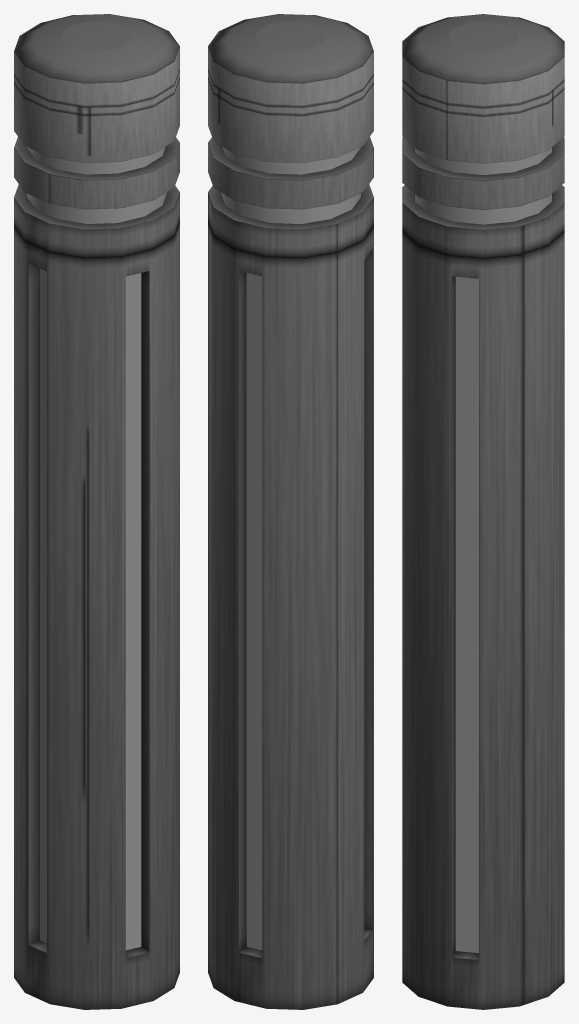
Rendered from ShortPillar.fbx.
3 renders of one model, left to right at view 1: azimuth 30°, elevation 25°; view 2: azimuth 150°, elevation 25°; view 3: azimuth 270°, elevation 25°, orthographic.
Visible parts, largest first — view 1: Short_Pillar, Short_Pillar_GM; view 2: Short_Pillar, Short_Pillar_GM; view 3: Short_Pillar, Short_Pillar_GM.
Boxes of the visible parts, x1,y1,x2,y2 form: Short_Pillar: (14,14,179,1009); Short_Pillar_GM: (27,147,166,950); Short_Pillar: (208,14,373,1009); Short_Pillar_GM: (221,147,360,950); Short_Pillar: (402,14,564,1009); Short_Pillar_GM: (415,148,551,953).
Size of the model in its own units: 0.2286 by 1.43 by 0.2229.
2 materials, 1 textured.
